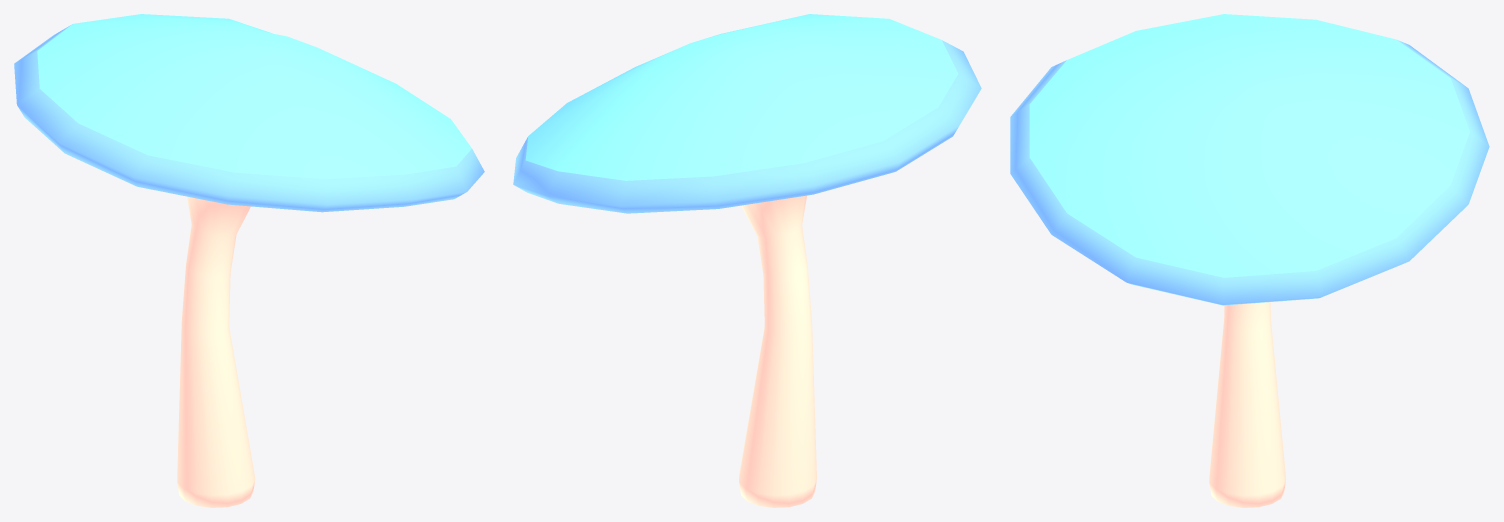
File: cogumelo_P2.fbx
3 views of the same model, side by side, from view 1: azimuth 30°, elevation 25°; view 2: azimuth 150°, elevation 25°; view 3: azimuth 270°, elevation 25° (orthographic).
Parts seen in each view (by area): view 1: cogu_P2; view 2: cogu_P2; view 3: cogu_P2.
Part boxes in pixels (left/top/right/bottom): cogu_P2: left=14, top=14, right=484, bottom=507; cogu_P2: left=513, top=14, right=981, bottom=507; cogu_P2: left=1010, top=14, right=1489, bottom=507.
Size of the model in its own units: 249 by 261 by 258.
